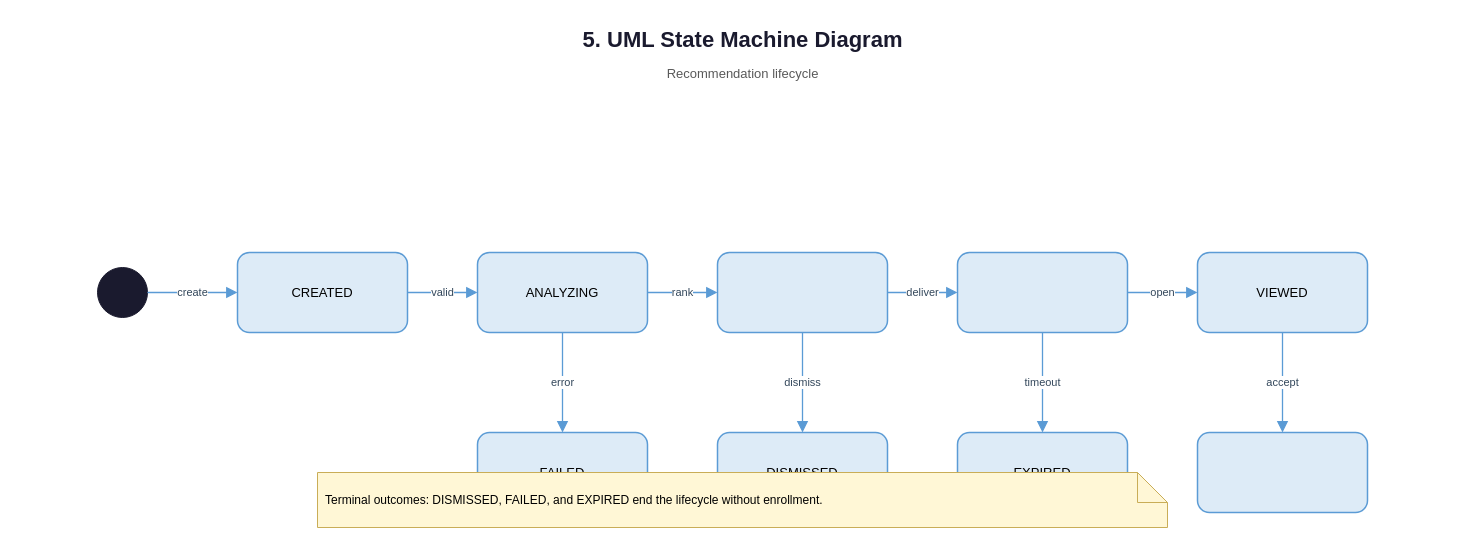
Some shapes in this 1484 by 545 pixel diagram are drawn without their labels. Here are the shapes that lost their labels. From the top down, the box of each, then its label:
(716, 251, 888, 333): GENERATED
(956, 251, 1128, 333): DELIVERED
(1196, 431, 1368, 513): ACCEPTED
